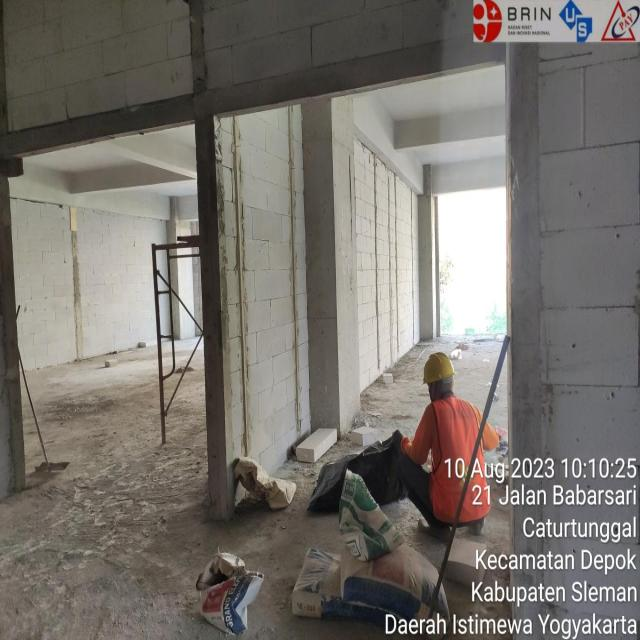Helmet: (413, 333, 455, 407)
Safety Vest: (406, 394, 501, 532)
